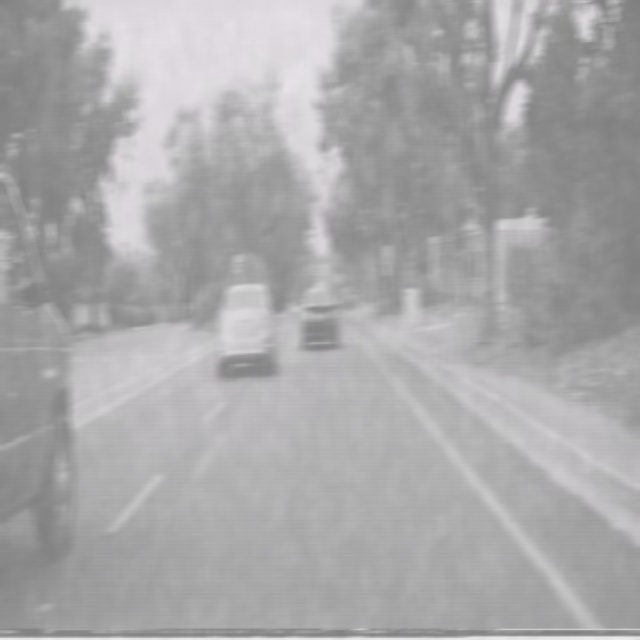speedLimit45: (232, 252, 241, 272), (383, 243, 391, 265)
